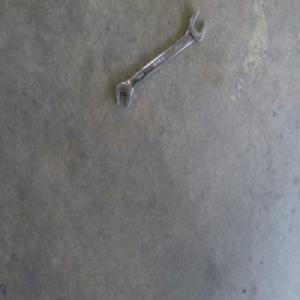Wrench: (115, 14, 207, 110)
